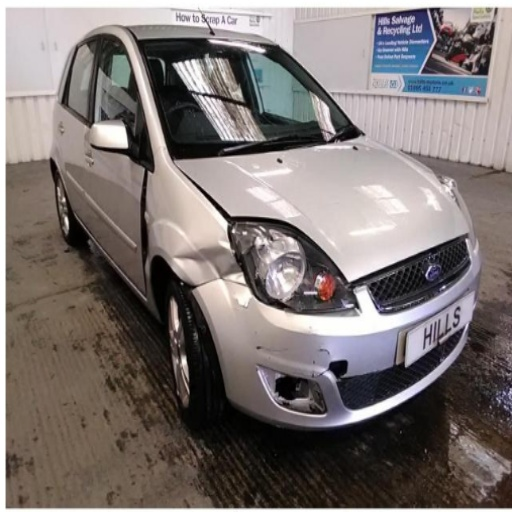dent: (172, 242, 248, 288), (223, 279, 255, 313), (143, 205, 158, 267), (220, 230, 230, 245)
scratch: (254, 346, 289, 353), (316, 346, 331, 355), (312, 359, 316, 366), (311, 371, 315, 378), (308, 325, 313, 330), (268, 355, 271, 361), (254, 330, 258, 334)
